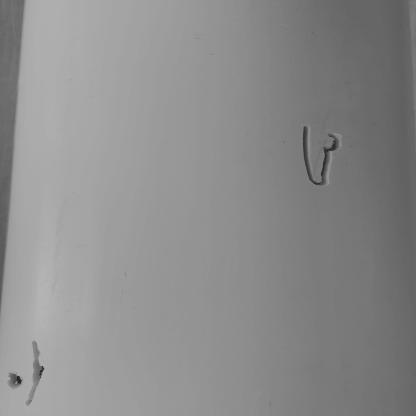fengxi: (294, 120, 351, 191)
kongdong: (25, 338, 48, 405), (1, 368, 26, 390)
